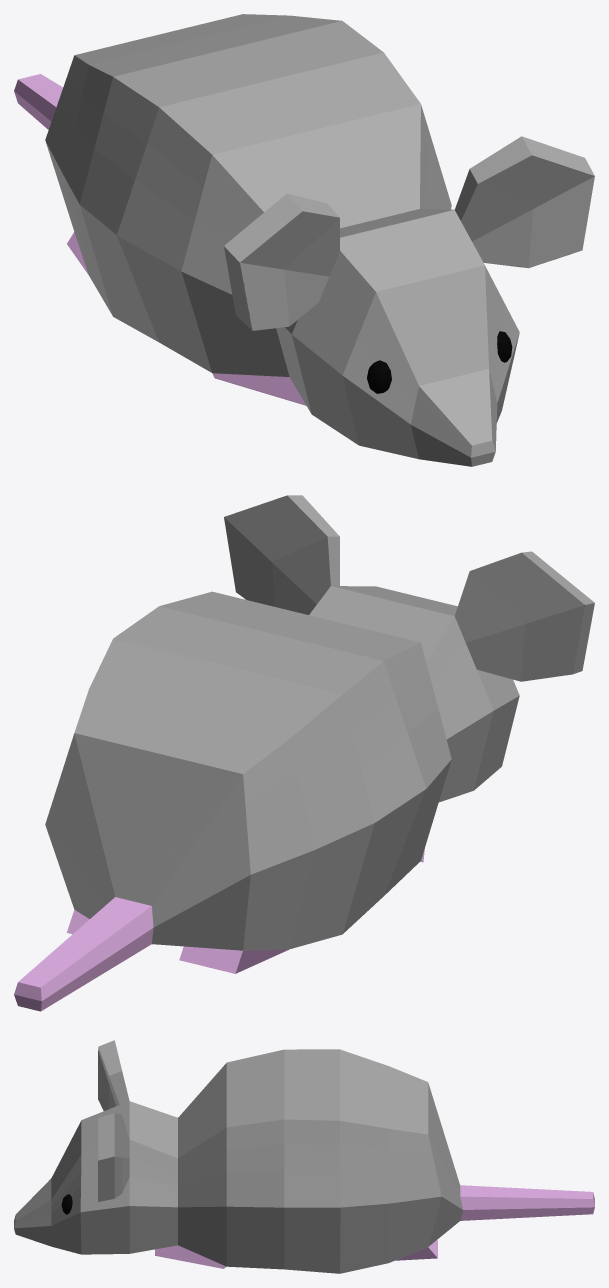
The model's file is mouse model.glb.
3 renders of one model, top to bottom at view 1: azimuth 30°, elevation 25°; view 2: azimuth 150°, elevation 25°; view 3: azimuth 270°, elevation 25°, orthographic. The views are drawn at different scales.
Visible parts, largest first — view 1: BAKR; view 2: BAKR; view 3: BAKR.
Boxes of the visible parts, x1,y1,x2,y2 form: BAKR: (14, 14, 594, 466); BAKR: (14, 495, 594, 1011); BAKR: (14, 1040, 594, 1273).
Size of the model in its own units: 2.14 by 1.44 by 4.68.
Materials: 1 (1 with a texture image).
